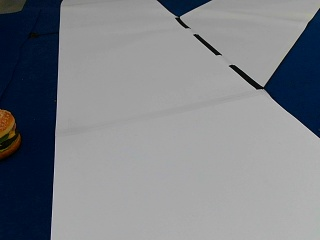burger: (0, 108, 21, 159)
